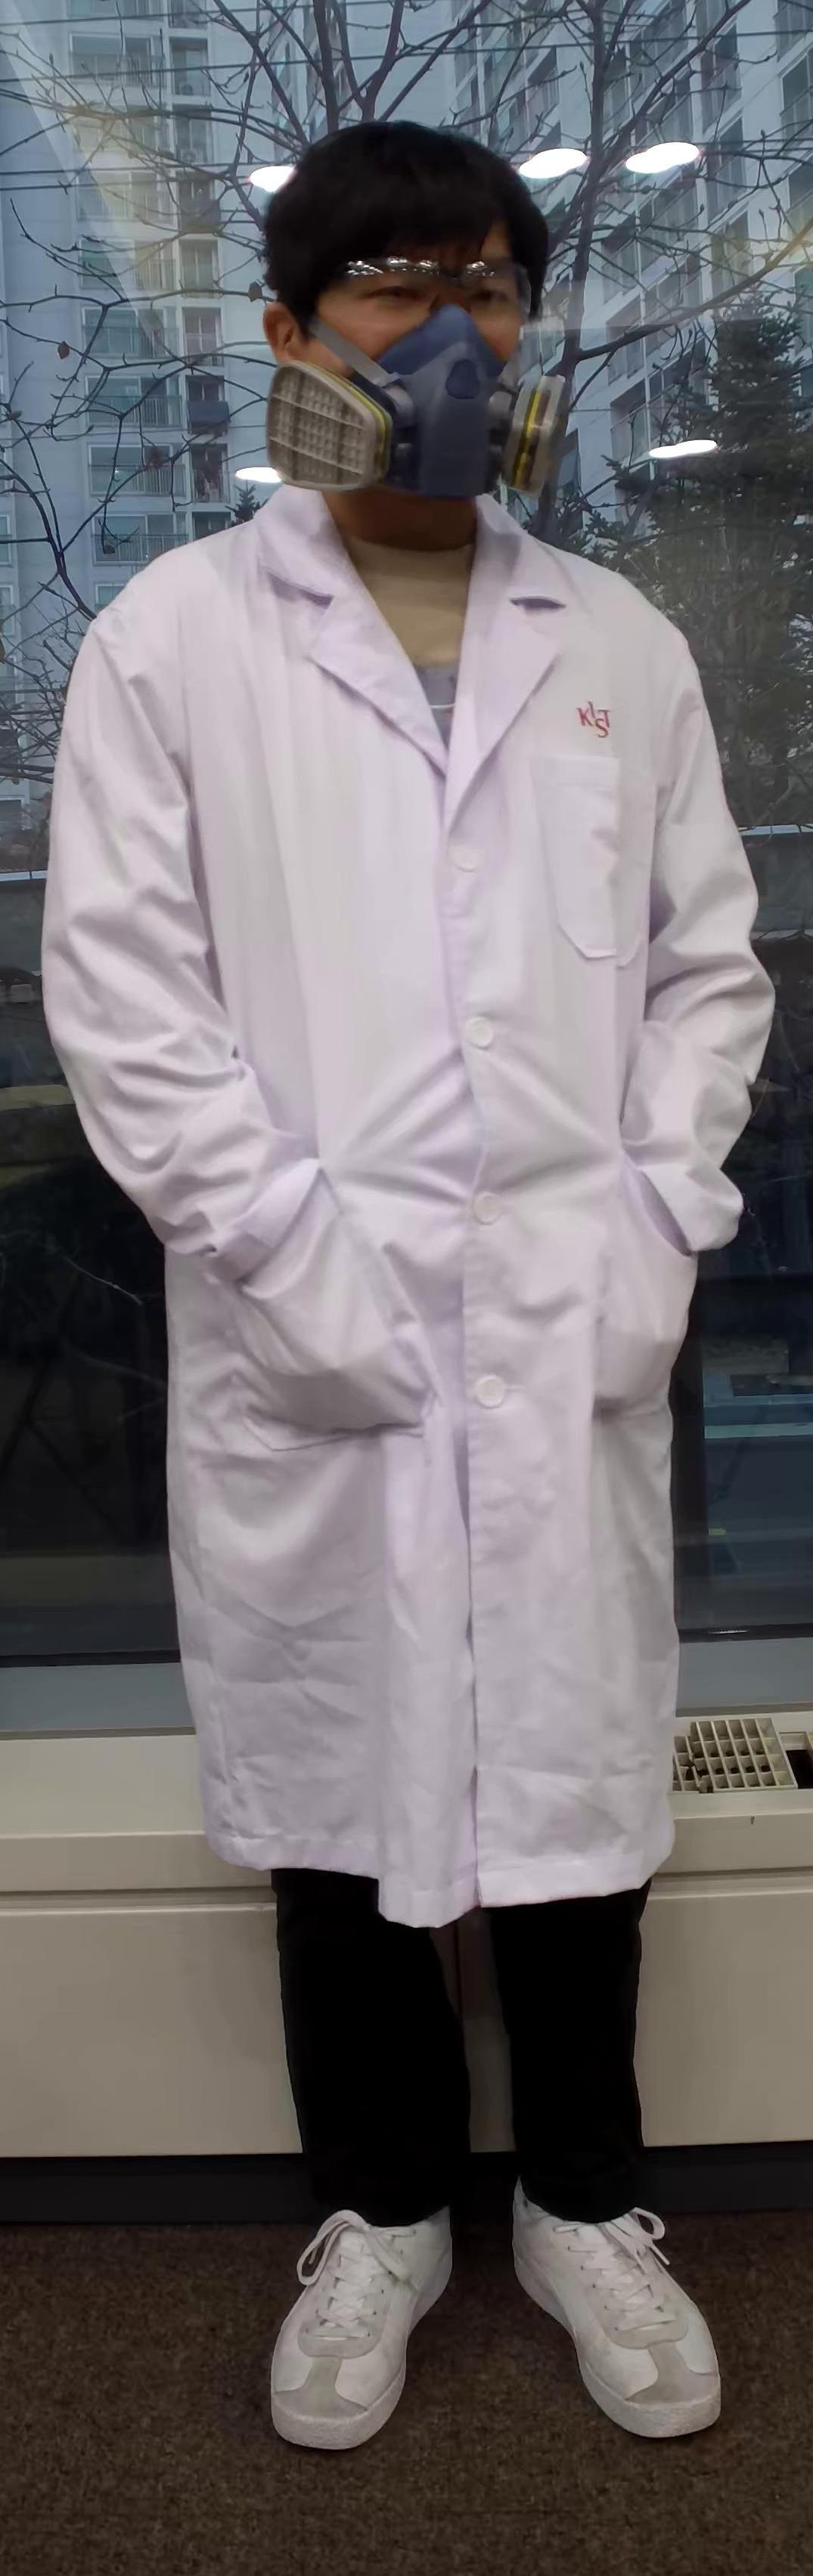lab_coat: (2, 562, 813, 1874)
